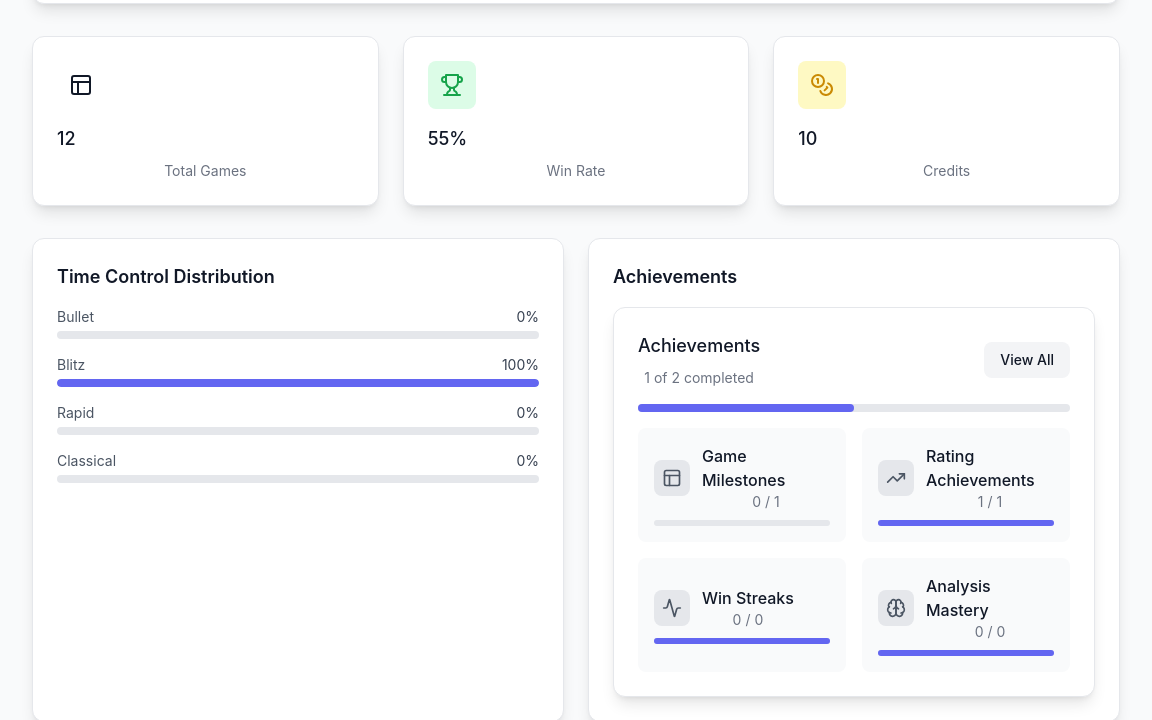
it: Profile achievements › shows back button when viewing a category inside the modal
(page scrolled)
Check: the 1st heading "Achievements" is shown, box [613,266,737,287]
Click the button "View All" at (1027, 360), box [984,342,1070,378]
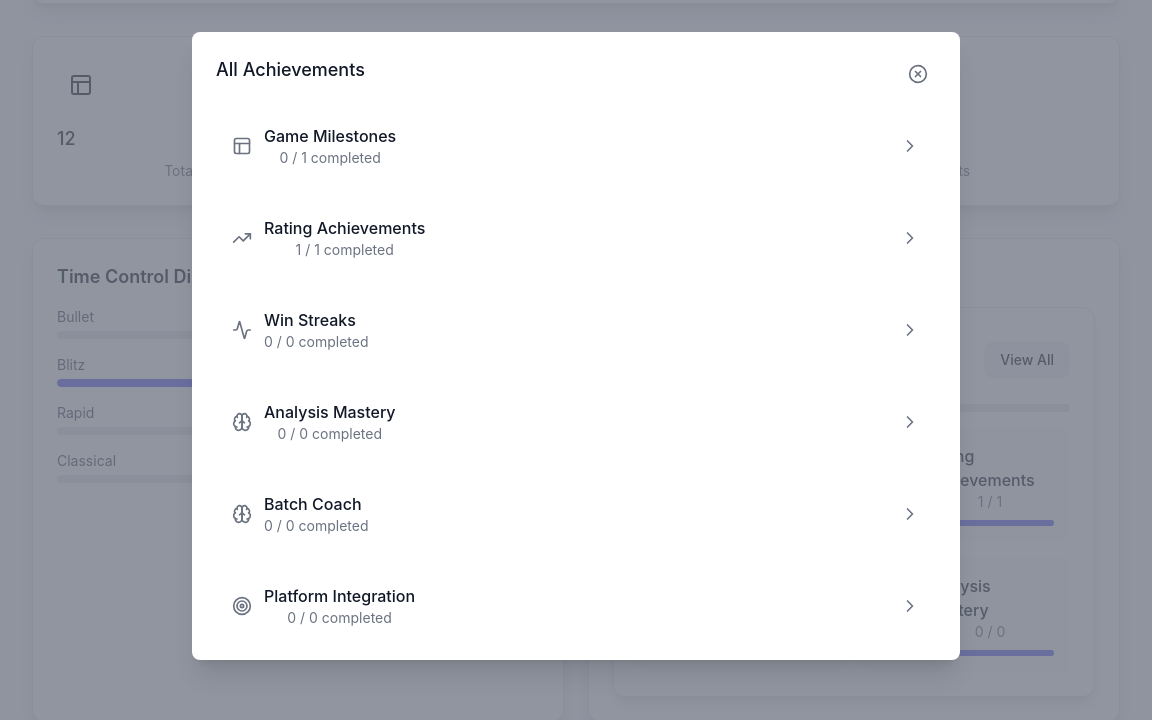
Click the button "Game Milestones 0 / 1 completed" at (330, 136), box [216,108,936,184]
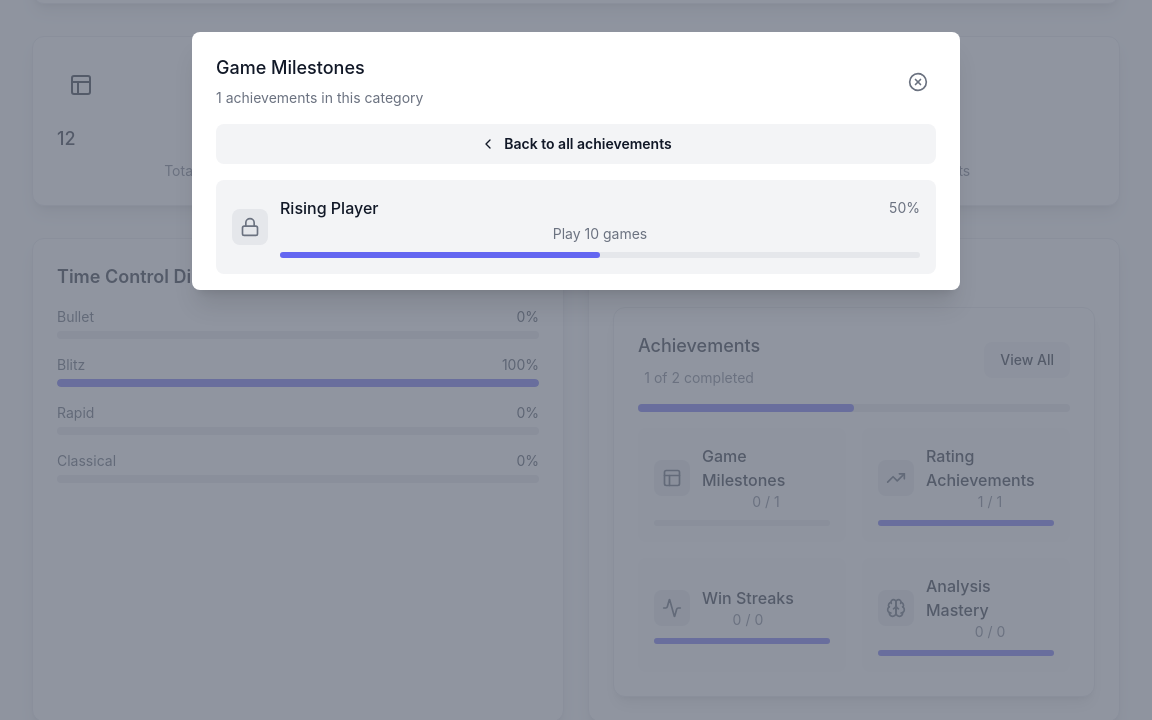
Check: the button "Back to all achievements" is shown
Click the button "Back to all achievements" at (576, 144), box [216,124,936,164]
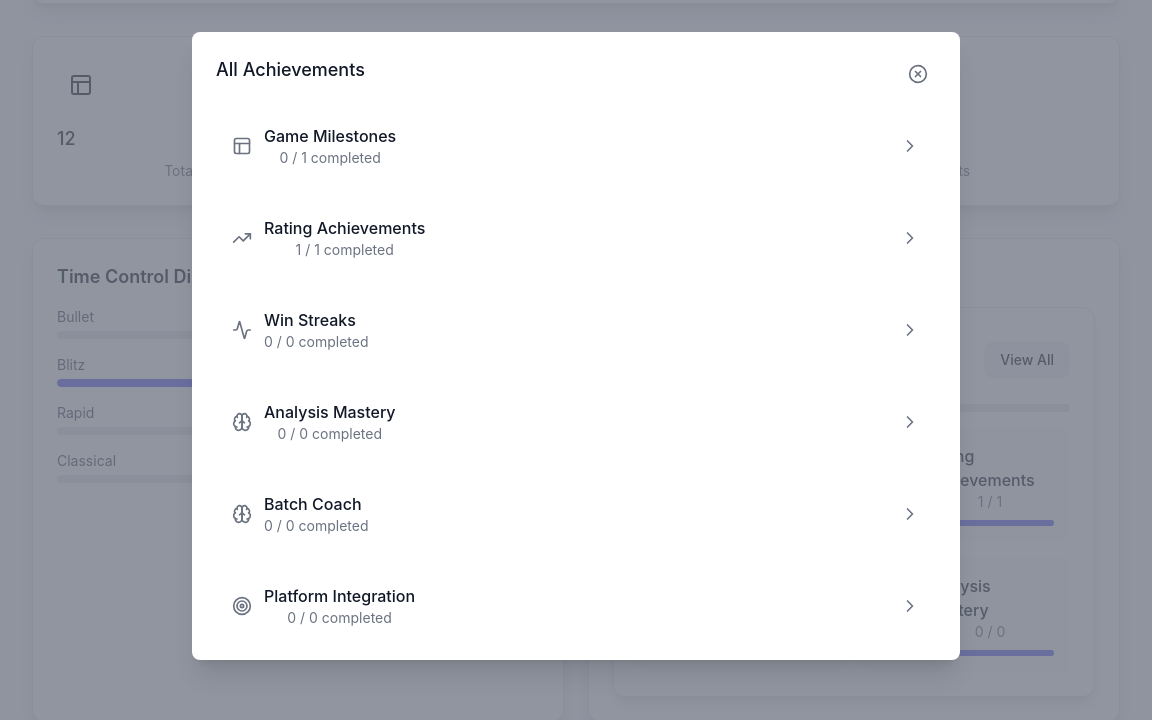
Check: the button "Rating Achievements 1 / 1" is shown, box [862,428,1070,542]
Check: the heading "All Achievements" is shown, box [216,58,365,82]
